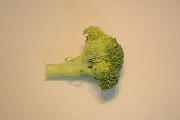broccoli: (42, 25, 125, 91)
